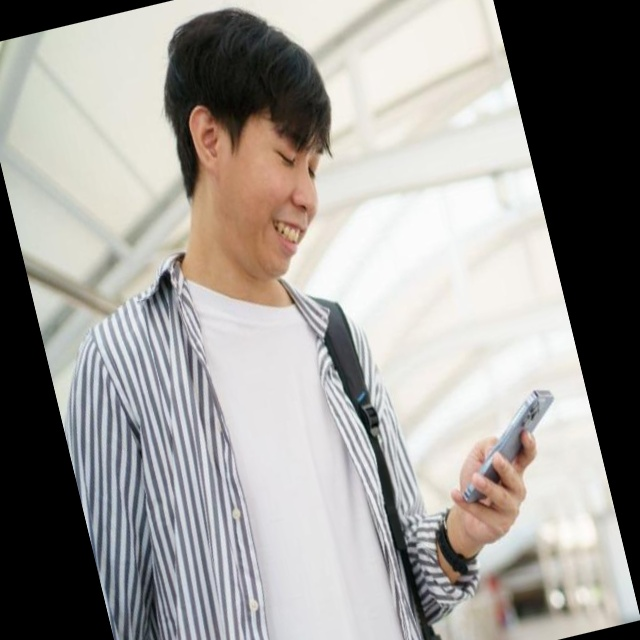Sin_Casco_Mascarrilla: (142, 0, 367, 291)
Sin_Chaleco: (67, 245, 448, 640)
